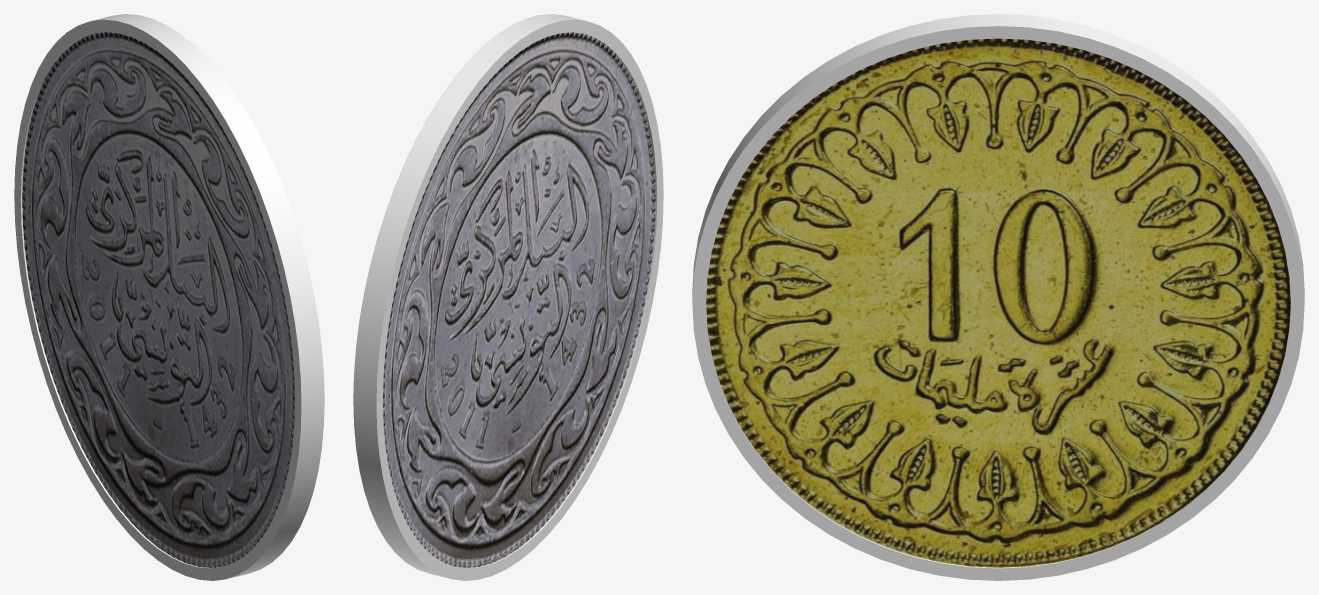
The picture shows the model from 3 angles, left to right: view 1: azimuth 30°, elevation 25°; view 2: azimuth 150°, elevation 25°; view 3: azimuth 270°, elevation 25°; orthographic projection. The views are drawn at different scales.
Visible parts, largest first — view 1: Cylinder; view 2: Cylinder; view 3: Cylinder.
Part boxes in pixels (x1=…): Cylinder: x1=14, y1=14, x2=324, y2=580; Cylinder: x1=353, y1=14, x2=663, y2=580; Cylinder: x1=692, y1=14, x2=1304, y2=580.
Size of the model in its own units: 0.0646 by 1.39 by 1.39.
3 materials, 2 textured.
